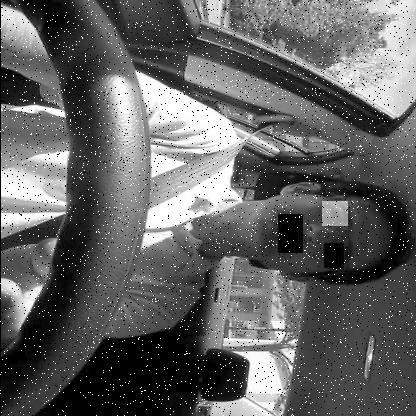seatbelt: (0, 111, 411, 294)
